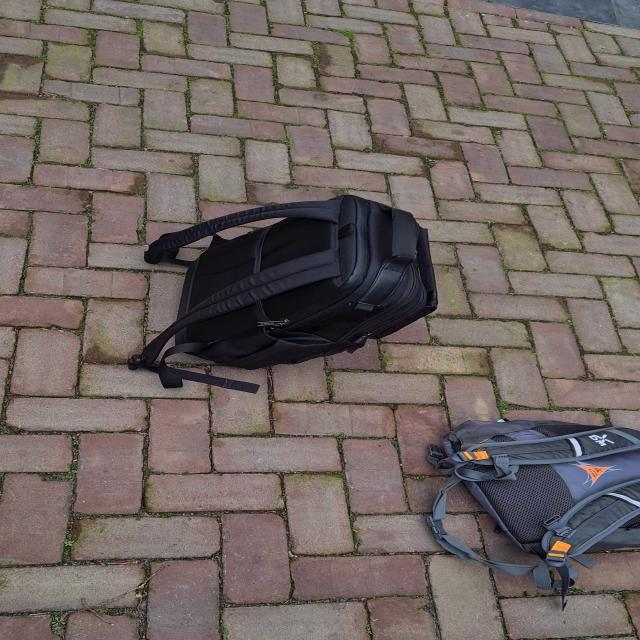backpack: (129, 187, 449, 371), (419, 409, 640, 562)
